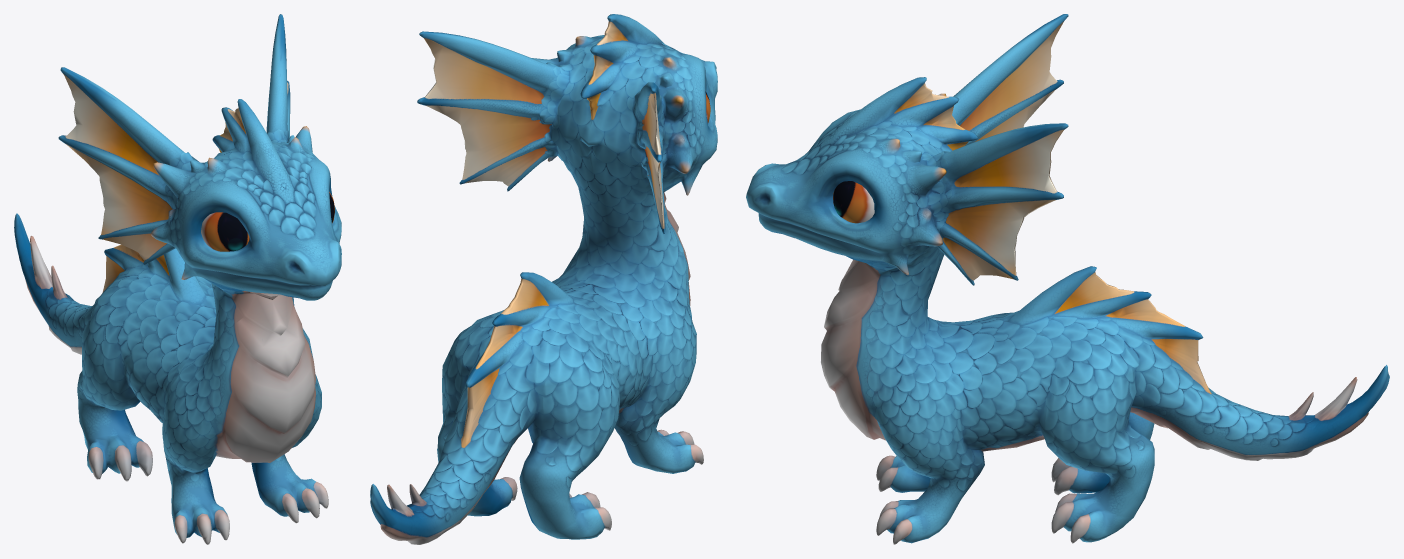
The model's file is baby_dragon.glb.
3 renders of one model, left to right at view 1: azimuth 30°, elevation 25°; view 2: azimuth 150°, elevation 25°; view 3: azimuth 270°, elevation 25°, orthographic. The views are drawn at different scales.
Parts seen in each view (by area): view 1: Baby_dragon; view 2: Baby_dragon; view 3: Baby_dragon.
Boxes of the visible parts, box(x1,y1,x2,y2) form: Baby_dragon: box(14, 14, 341, 544); Baby_dragon: box(370, 14, 717, 544); Baby_dragon: box(746, 14, 1389, 544).
Bounding box in the file's own units: 0.075 × 0.1329 × 0.1759.
1 material, 1 textured.
